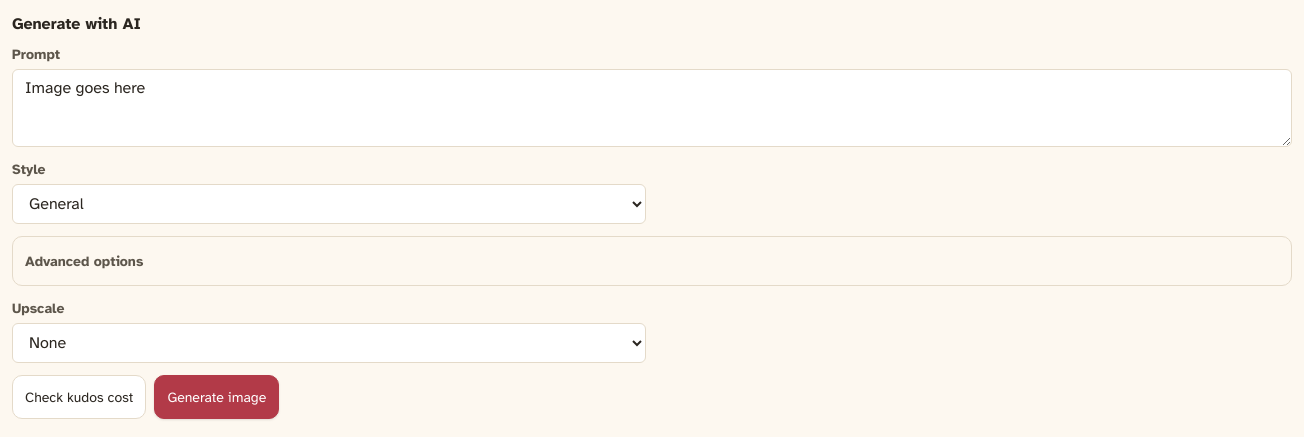
ImageGenerationPanel upscale controls › reveals the upscaler picker once Inline or Alchemy mode is chosen
The image size is (1304, 437).
Select "Inline (replaces the original)" in the dropdown labelled "Upscale" at (329, 343), box [12,323,646,363]
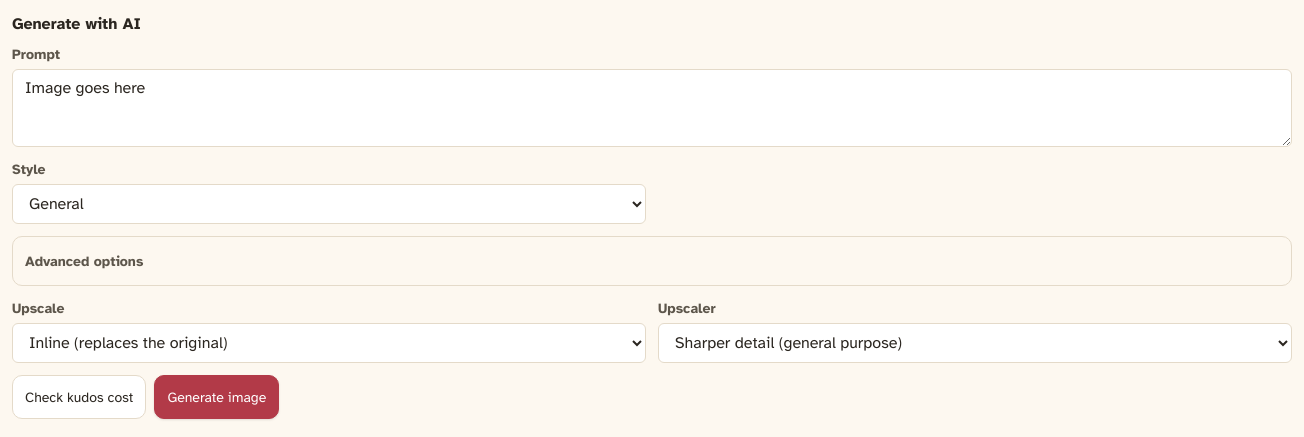
Now the dropdown labelled "Upscaler" is shown, box [658,323,1292,363]
